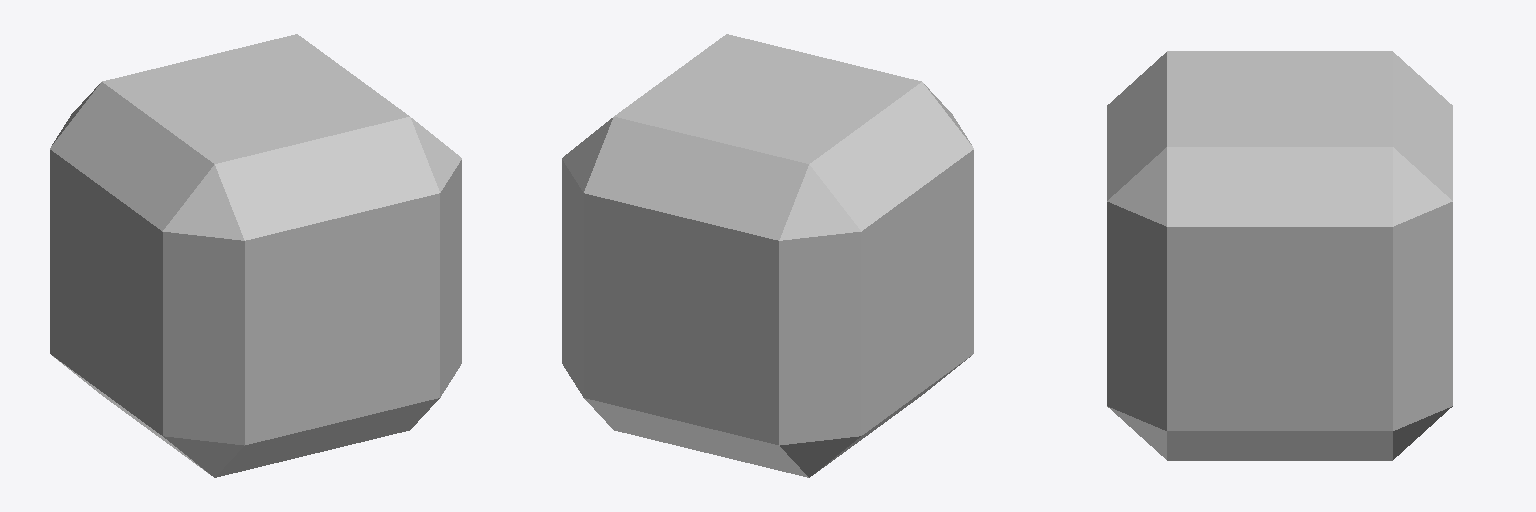
File: simple_cube.obj
3 renders of one model, left to right at view 1: azimuth 30°, elevation 25°; view 2: azimuth 150°, elevation 25°; view 3: azimuth 270°, elevation 25°, orthographic.
Visible parts, largest first — view 1: Cube; view 2: Cube; view 3: Cube.
Part boxes in pixels (left/top/right/bottom): Cube: left=50, top=34, right=461, bottom=477; Cube: left=562, top=34, right=973, bottom=477; Cube: left=1107, top=51, right=1452, bottom=460.
Bounding box in the file's own units: 2 × 2 × 2.